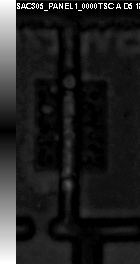led: (35, 80, 108, 171)
